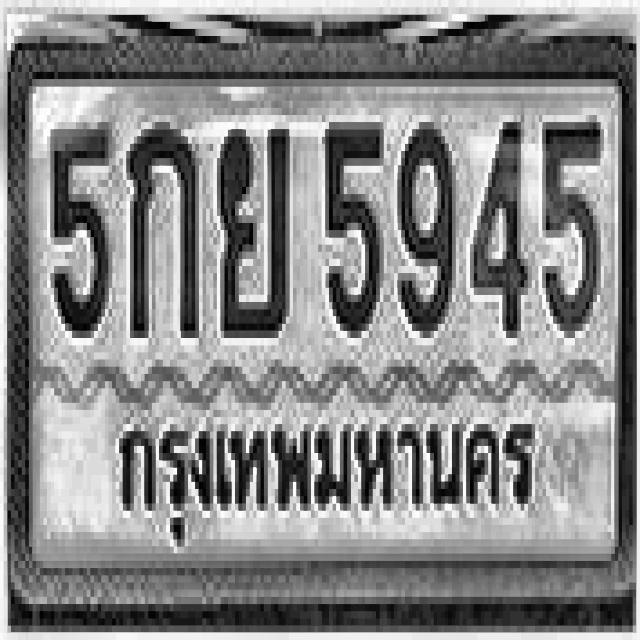license-plate: (18, 51, 632, 602)
